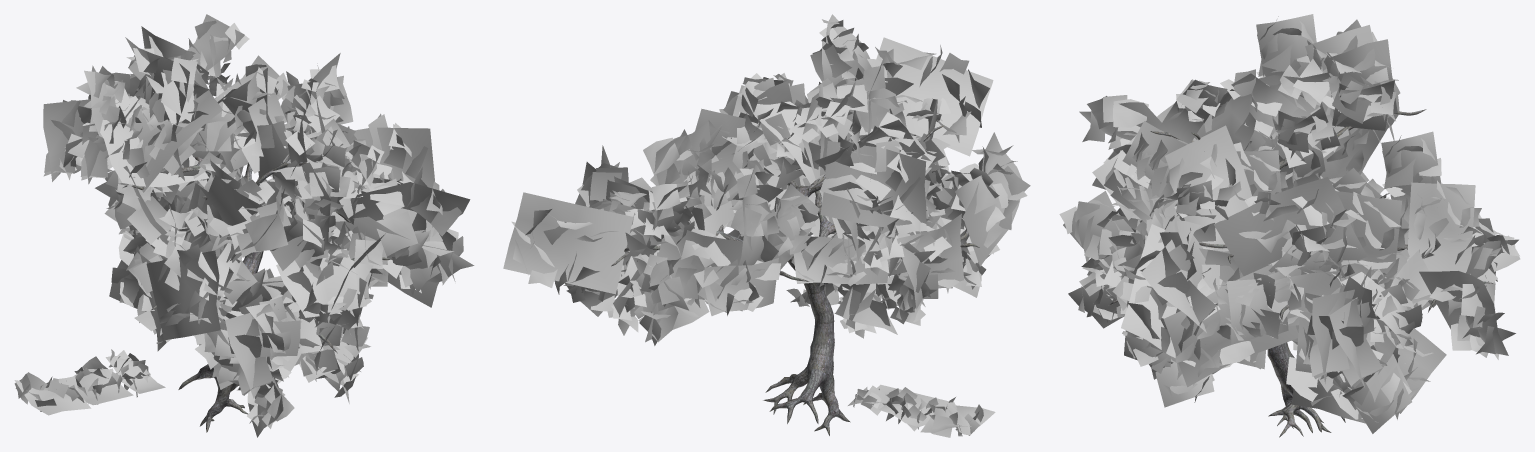
The model's file is tree2_ok.fbx.
3 renders of one model, left to right at view 1: azimuth 30°, elevation 25°; view 2: azimuth 150°, elevation 25°; view 3: azimuth 270°, elevation 25°, orthographic. The views are drawn at different scales.
Visible parts, largest first — view 1: tree2_top|branch2-2|Dupli|40, tree2_top|branch2-2|Dupli|58, tree2_top|branch2-3|Dupli|57, tree2_top|branch2-3|Dupli|24, tree2_top|branch2-1|Dupli|23, tree2_top|branch2-3|Dupli|78, tree2_top|branch2-1|Dupli|44, tree2_top|branch2-2|Dupli|46, tree2_top|branch2-3|Dupli|75, tree2_top|branch2-2|Dupli|43, tree2_top|branch2-3|Dupli|63, tree2_top|branch2-3|Dupli|39 (+40 smaller); view 2: tree2_top|branch2-2|Dupli|52, tree2_top|branch2-2|Dupli|46, tree2_top|branch2-3|Dupli|21, tree2_top|branch2-2|Dupli|40, tree2_top|branch2-3|Dupli|39, tree2_top|branch2-1|Dupli|41, tree2_top|branch2-1|Dupli|35, tree2_top|branch2-1|Dupli|29, tree2_top|branch2-3|Dupli|36, tree2_top|branch2-1|Dupli|17, tree2_top|branch2-2|Dupli|4, tree2_bottom (+36 smaller); view 3: tree2_top|branch2-2|Dupli|55, tree2_top|branch2-2|Dupli|37, tree2_top|branch2-2|Dupli|70, tree2_top|branch2-2|Dupli|49, tree2_top|branch2-3|Dupli|57, tree2_top|branch2-2|Dupli|52, tree2_top|branch2-1|Dupli|5, tree2_top|branch2-2|Dupli|4, tree2_top|branch2-3|Dupli|24, tree2_top|branch2-2|Dupli|58, tree2_top|branch2-3|Dupli|, tree2_top|branch2-1|Dupli|35 (+39 smaller).
Part boxes in pixels (bbox=[...]): tree2_top|branch2-2|Dupli|40: bbox=[146, 244, 229, 340]; tree2_top|branch2-2|Dupli|58: bbox=[334, 211, 474, 292]; tree2_top|branch2-3|Dupli|57: bbox=[336, 167, 470, 244]; tree2_top|branch2-3|Dupli|24: bbox=[222, 67, 287, 182]; tree2_top|branch2-1|Dupli|23: bbox=[142, 52, 197, 180]; tree2_top|branch2-3|Dupli|78: bbox=[276, 248, 366, 322]; tree2_top|branch2-1|Dupli|44: bbox=[201, 175, 329, 270]; tree2_top|branch2-2|Dupli|46: bbox=[224, 148, 312, 262]; tree2_top|branch2-3|Dupli|75: bbox=[345, 114, 434, 188]; tree2_top|branch2-2|Dupli|43: bbox=[126, 70, 222, 192]; tree2_top|branch2-3|Dupli|63: bbox=[225, 290, 300, 398]; tree2_top|branch2-3|Dupli|39: bbox=[109, 228, 162, 337]; tree2_top|branch2-2|Dupli|52: bbox=[503, 192, 633, 294]; tree2_top|branch2-2|Dupli|46: bbox=[876, 37, 993, 156]; tree2_top|branch2-3|Dupli|21: bbox=[820, 140, 927, 236]; tree2_top|branch2-2|Dupli|40: bbox=[955, 132, 1030, 266]; tree2_top|branch2-3|Dupli|39: bbox=[897, 213, 963, 309]; tree2_top|branch2-1|Dupli|41: bbox=[694, 258, 780, 315]; tree2_top|branch2-1|Dupli|35: bbox=[729, 158, 783, 265]; tree2_top|branch2-1|Dupli|29: bbox=[790, 233, 889, 286]; tree2_top|branch2-3|Dupli|36: bbox=[658, 221, 742, 311]; tree2_top|branch2-1|Dupli|17: bbox=[737, 73, 815, 184]; tree2_top|branch2-2|Dupli|4: bbox=[643, 121, 714, 228]; tree2_bottom: bbox=[763, 347, 850, 435]; tree2_top|branch2-2|Dupli|55: bbox=[1214, 177, 1367, 276]; tree2_top|branch2-2|Dupli|37: bbox=[1407, 180, 1483, 274]; tree2_top|branch2-2|Dupli|70: bbox=[1163, 264, 1298, 387]; tree2_top|branch2-2|Dupli|49: bbox=[1165, 125, 1254, 232]; tree2_top|branch2-3|Dupli|57: bbox=[1141, 210, 1219, 335]; tree2_top|branch2-2|Dupli|52: bbox=[1419, 271, 1515, 359]; tree2_top|branch2-1|Dupli|5: bbox=[1226, 271, 1341, 344]; tree2_top|branch2-2|Dupli|4: bbox=[1321, 191, 1409, 294]; tree2_top|branch2-3|Dupli|24: bbox=[1194, 69, 1297, 151]; tree2_top|branch2-2|Dupli|58: bbox=[1120, 224, 1222, 366]; tree2_top|branch2-3|Dupli|: bbox=[1329, 268, 1385, 387]; tree2_top|branch2-1|Dupli|35: bbox=[1381, 131, 1441, 244].
Bounding box in the file's own units: 3121 × 2820 × 3005.
